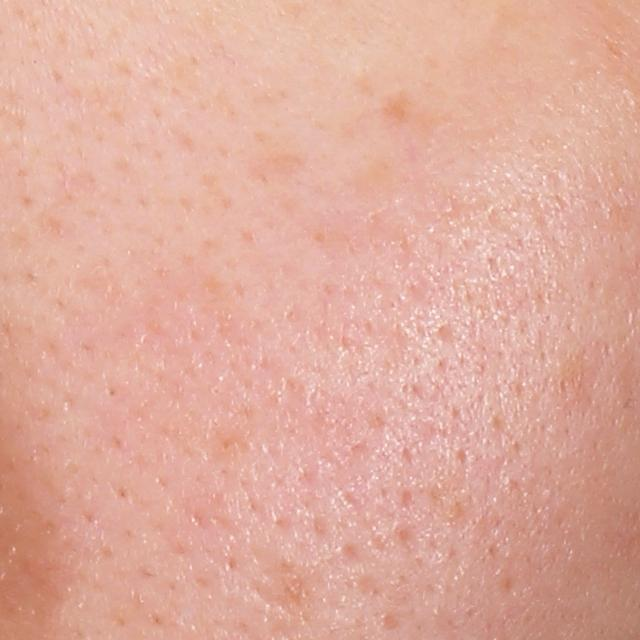melasma: (373, 90, 458, 158), (247, 137, 311, 198), (347, 153, 399, 205)
